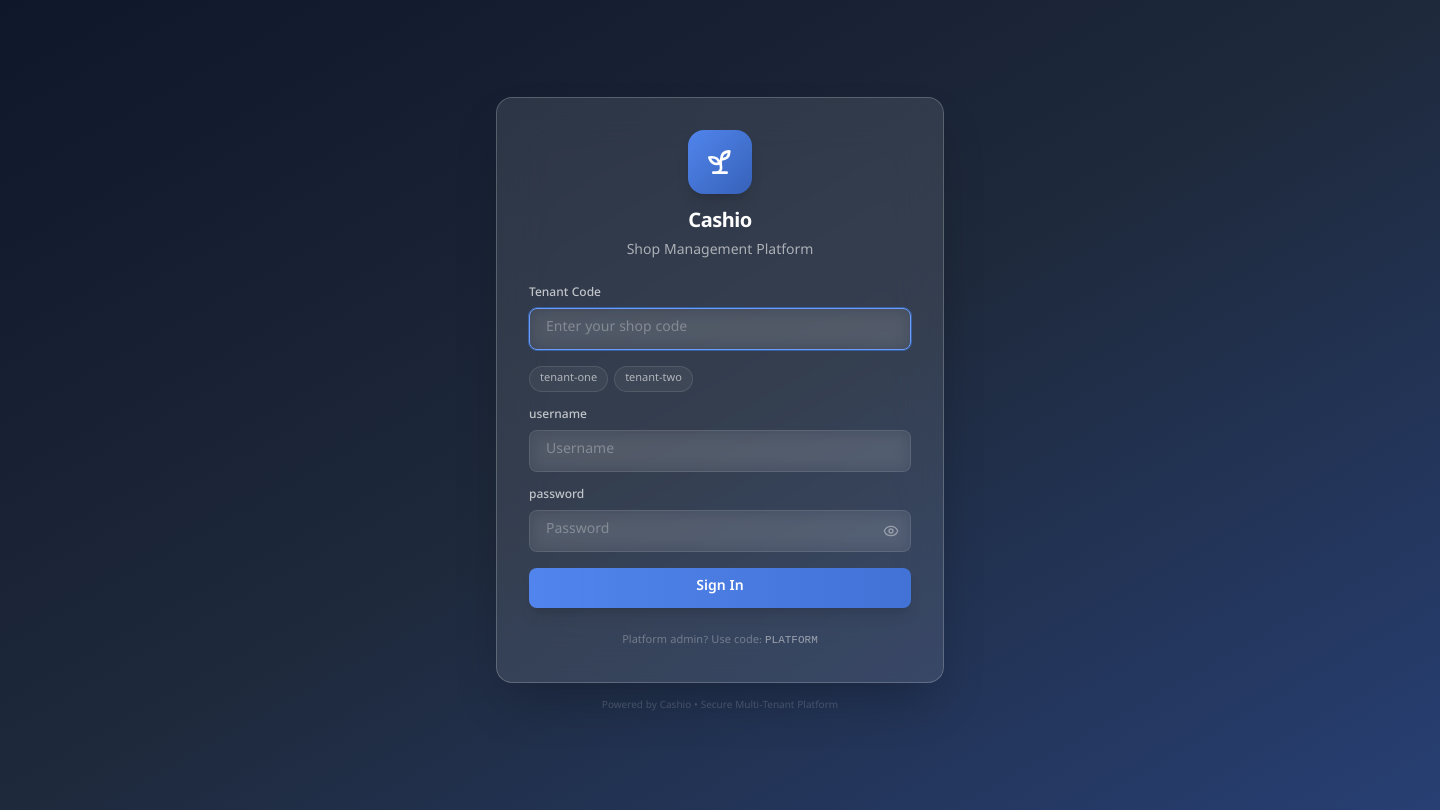
Test: Login page › shows recent codes and allows quick selection
Step 1. Click the button "tenant-one" → [569, 379], box [529,366,608,392]
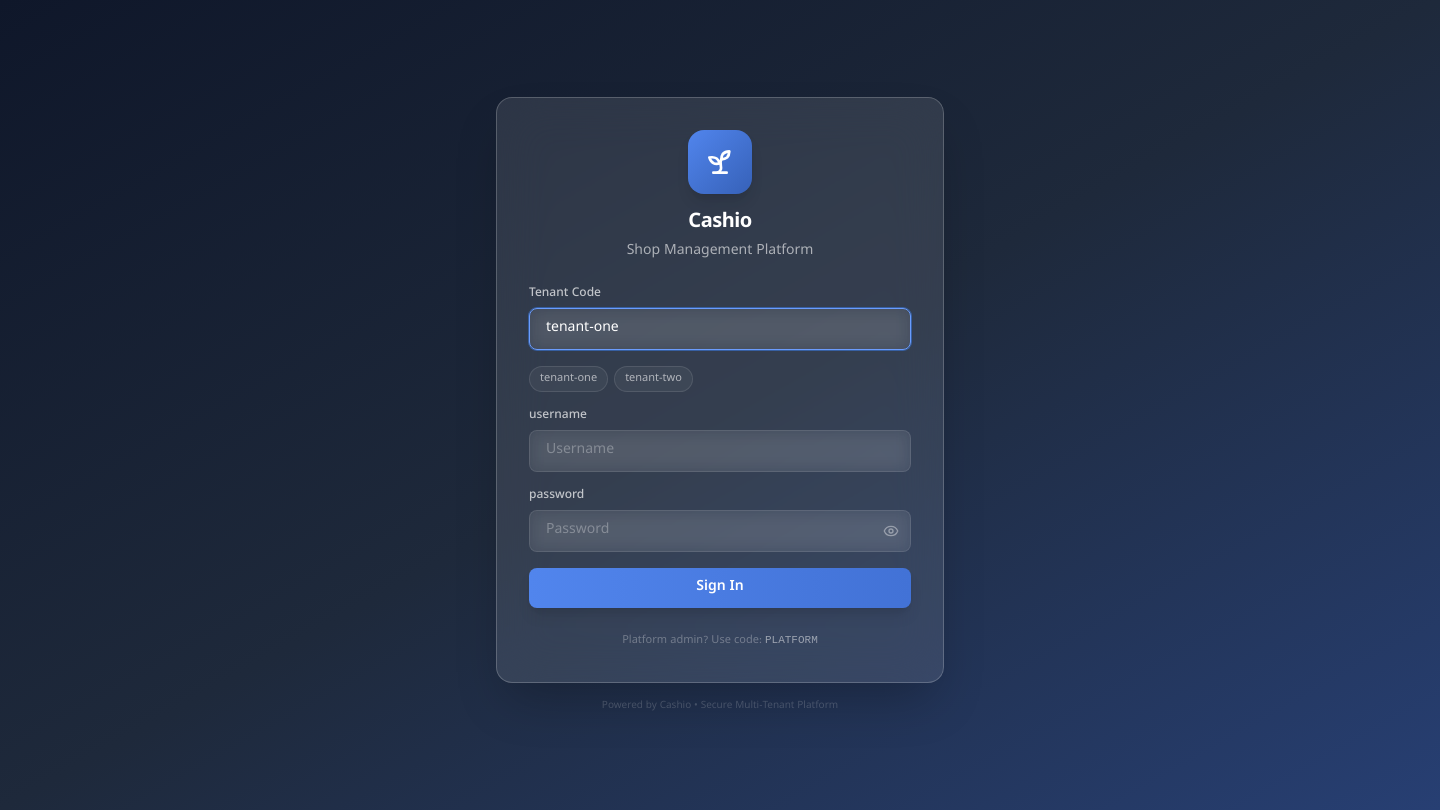
expect the field with placeholder "Enter your shop code" holds "tenant-one": met, box [529,308,911,350]
